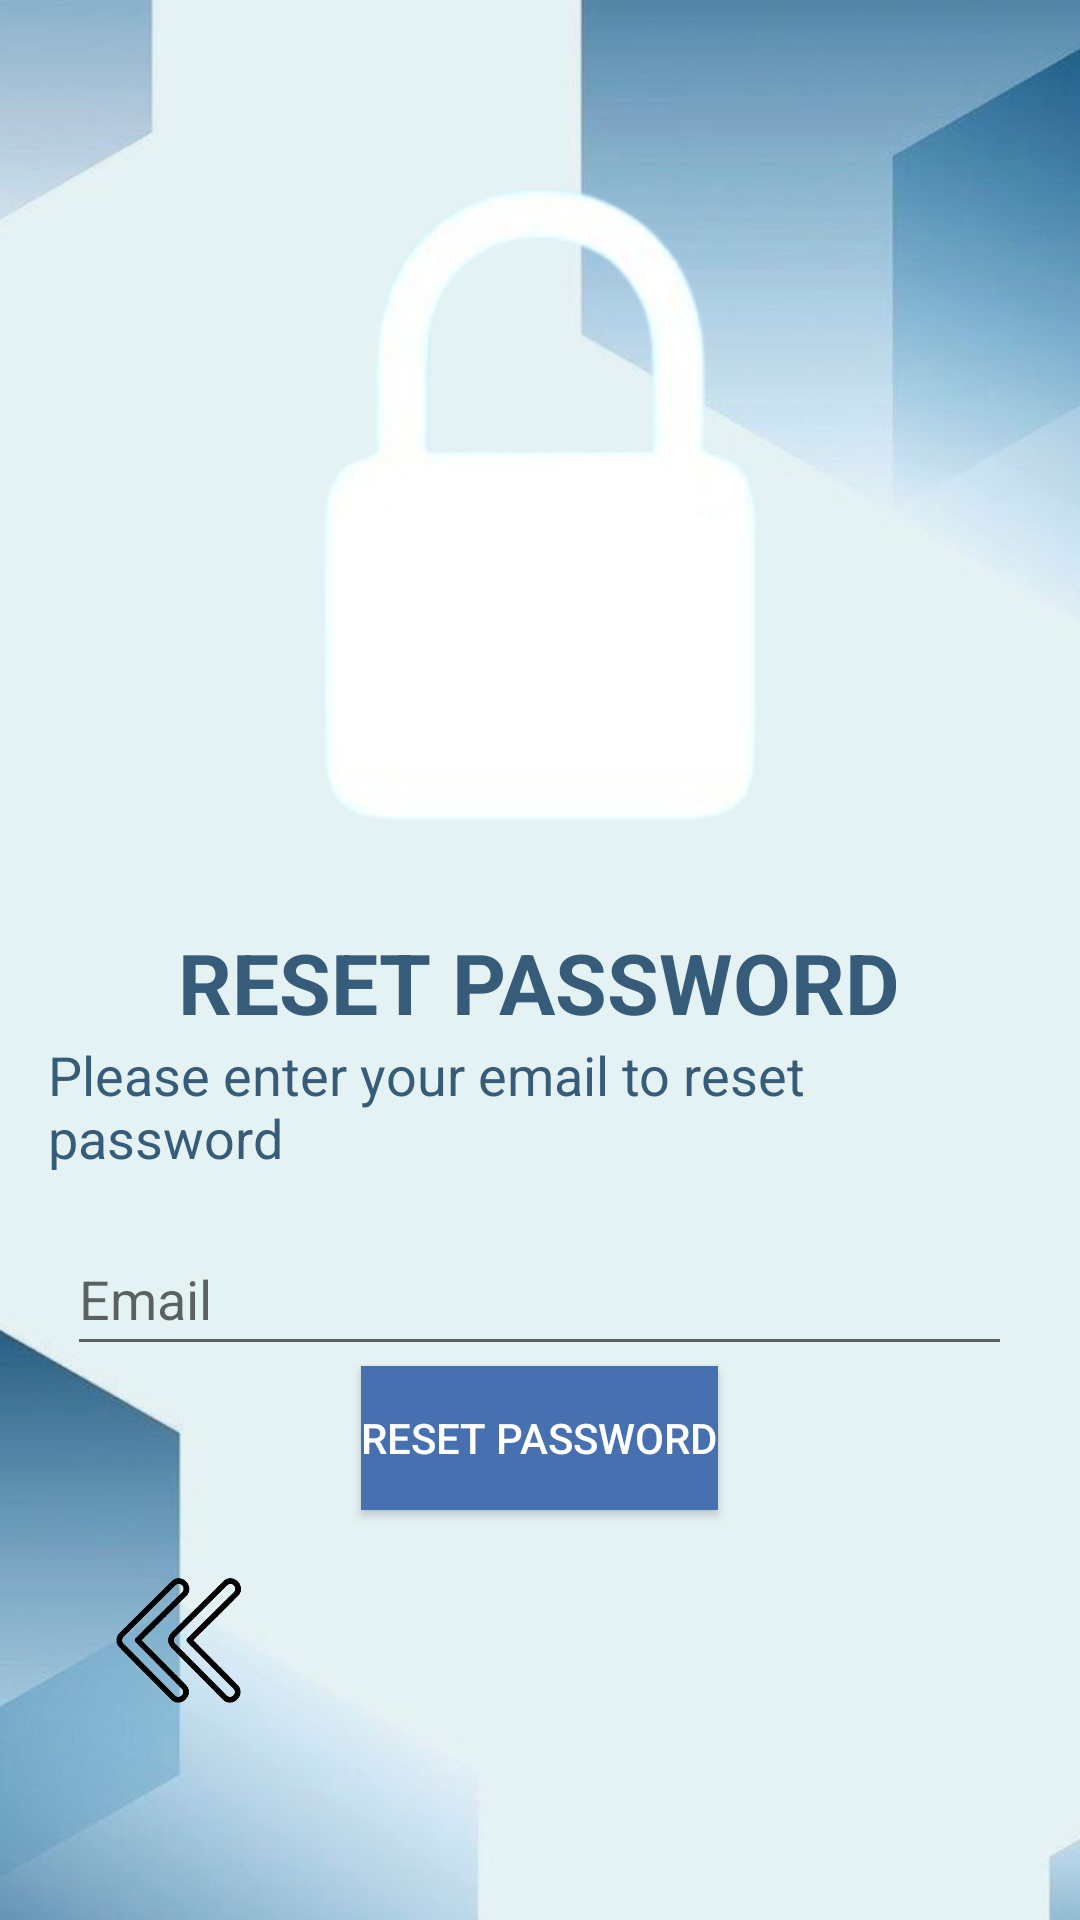

Icon click points for this 1080px×1920px phone screenshot, format point (x, y):
this is back button: point (178, 1640)
